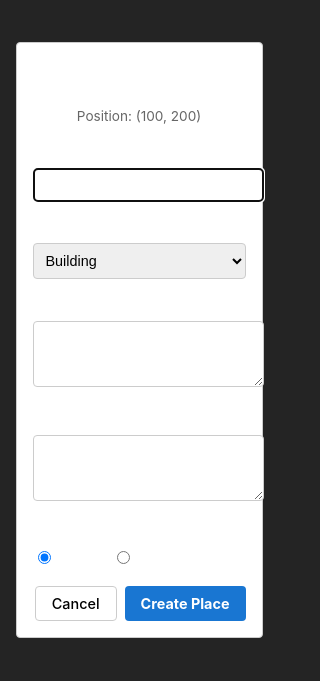
Test: AddPlaceForm component › handles API errors
In the field labelled "Name *": (148, 185) [32,168,264,202], type "Test Place"
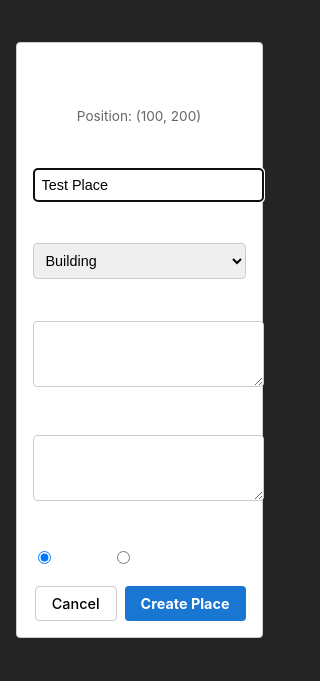
Click the button "Create Place": (185, 603) [124,586,246,621]
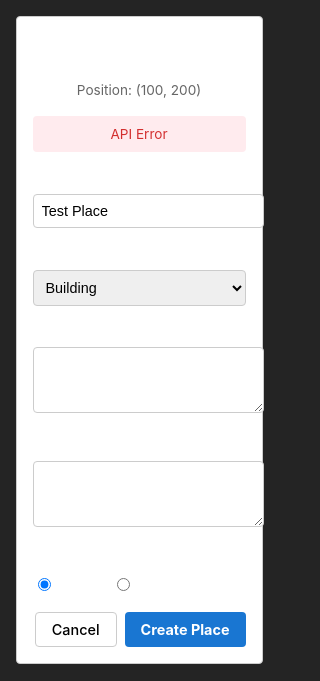
Now the text "API Error" is shown, box [32,116,246,152]
